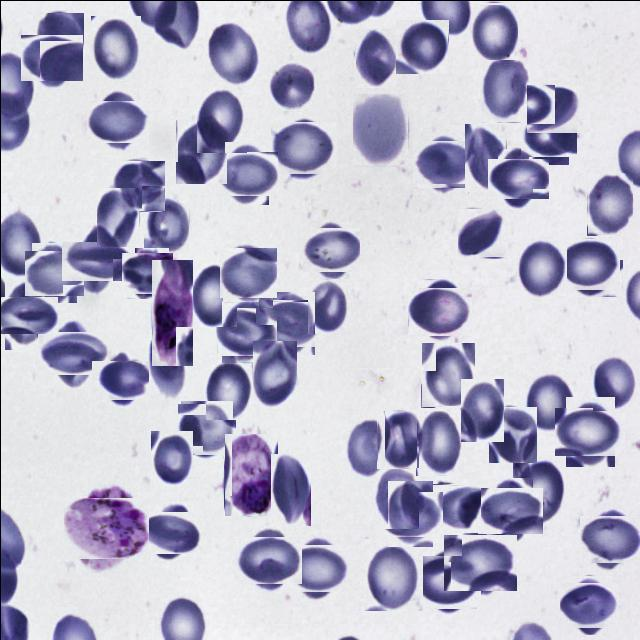red blood cell: (363, 538, 422, 610), (446, 530, 512, 594), (352, 93, 407, 164), (416, 552, 476, 612), (274, 118, 334, 178), (560, 401, 620, 461), (204, 20, 258, 86), (420, 342, 474, 407), (512, 458, 565, 524), (90, 15, 140, 83), (174, 119, 226, 184), (239, 530, 297, 588), (561, 235, 619, 292), (478, 57, 528, 122), (43, 324, 100, 381), (288, 538, 344, 596), (410, 282, 468, 338), (70, 232, 126, 289), (524, 371, 575, 433), (516, 235, 566, 298), (262, 294, 318, 350), (481, 482, 537, 538), (382, 485, 438, 541), (196, 90, 246, 152), (416, 136, 472, 191), (415, 410, 462, 475), (178, 402, 234, 456), (582, 512, 638, 566), (252, 340, 296, 408), (394, 19, 448, 74), (24, 30, 79, 84), (218, 304, 272, 358), (220, 245, 274, 299), (586, 172, 632, 235), (270, 453, 310, 525), (219, 146, 273, 199), (464, 123, 506, 191), (344, 418, 390, 479), (470, 2, 518, 60), (27, 246, 80, 298), (90, 95, 144, 146), (35, 12, 83, 69), (192, 264, 236, 326), (205, 361, 252, 419), (460, 378, 503, 441), (563, 578, 615, 630), (98, 354, 150, 406), (488, 406, 536, 462), (376, 410, 422, 468), (143, 193, 188, 252), (146, 506, 197, 558), (112, 159, 164, 210), (304, 223, 356, 274), (0, 288, 49, 342), (492, 153, 543, 204), (527, 83, 578, 134), (376, 467, 418, 528), (354, 28, 396, 88), (267, 60, 317, 110), (458, 208, 508, 258), (96, 187, 138, 246), (592, 354, 636, 410), (148, 334, 184, 400), (432, 483, 480, 532), (150, 430, 192, 485), (524, 112, 572, 160), (307, 280, 349, 333), (124, 250, 170, 296)
schizont: (69, 490, 143, 564)
trophozoite: (150, 259, 192, 366), (223, 433, 277, 516)
